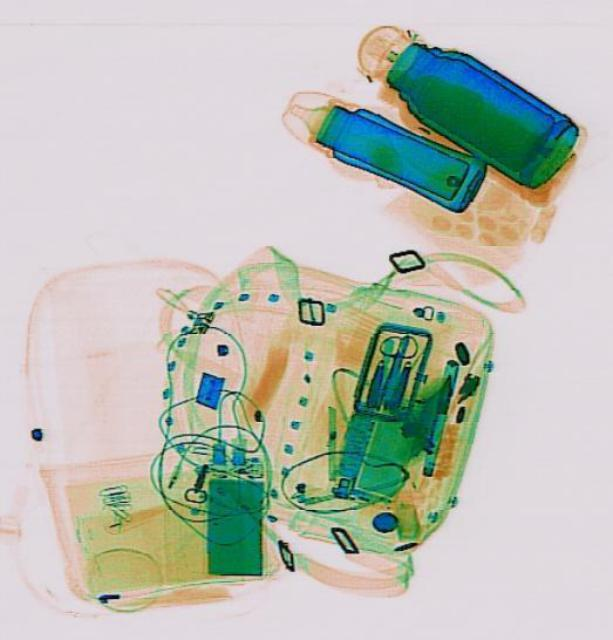Scissors: (364, 330, 417, 404)
